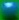blue: (0, 0, 19, 20)
